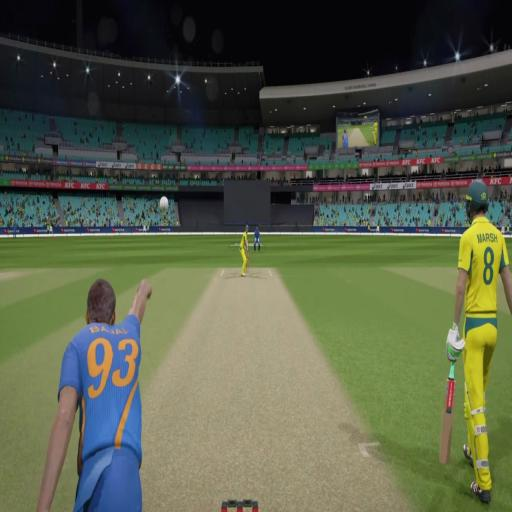ball: (446, 180, 512, 502), (158, 193, 169, 214)
